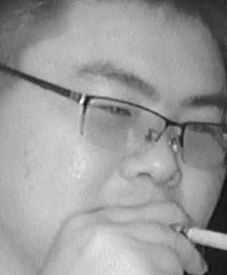eye: (95, 101, 131, 121)
glass: (81, 92, 167, 157), (179, 114, 227, 172)
